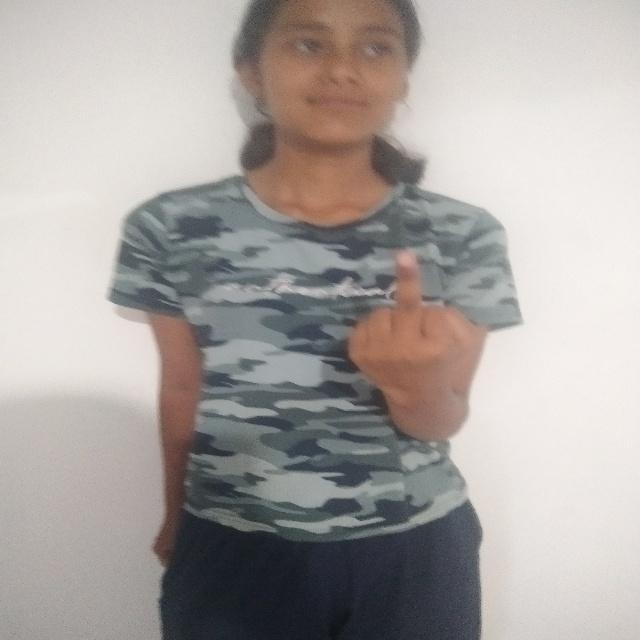Middle Finger: (336, 237, 473, 435)
